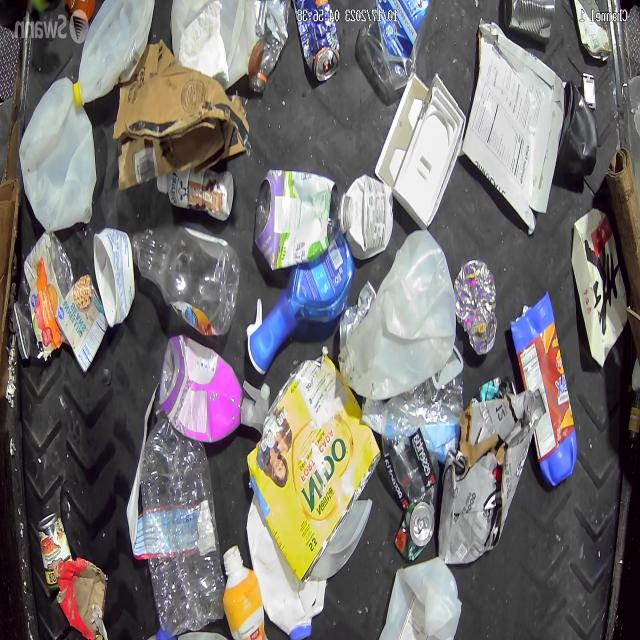can: (293, 0, 340, 83), (34, 508, 72, 590), (394, 501, 435, 564), (504, 0, 556, 45)
milk_jug: (336, 241, 459, 398), (21, 76, 98, 229), (74, 0, 154, 104), (379, 556, 462, 640)
plastic_bottle: (128, 430, 221, 636), (134, 225, 240, 339), (12, 233, 72, 361), (244, 1, 290, 98)
